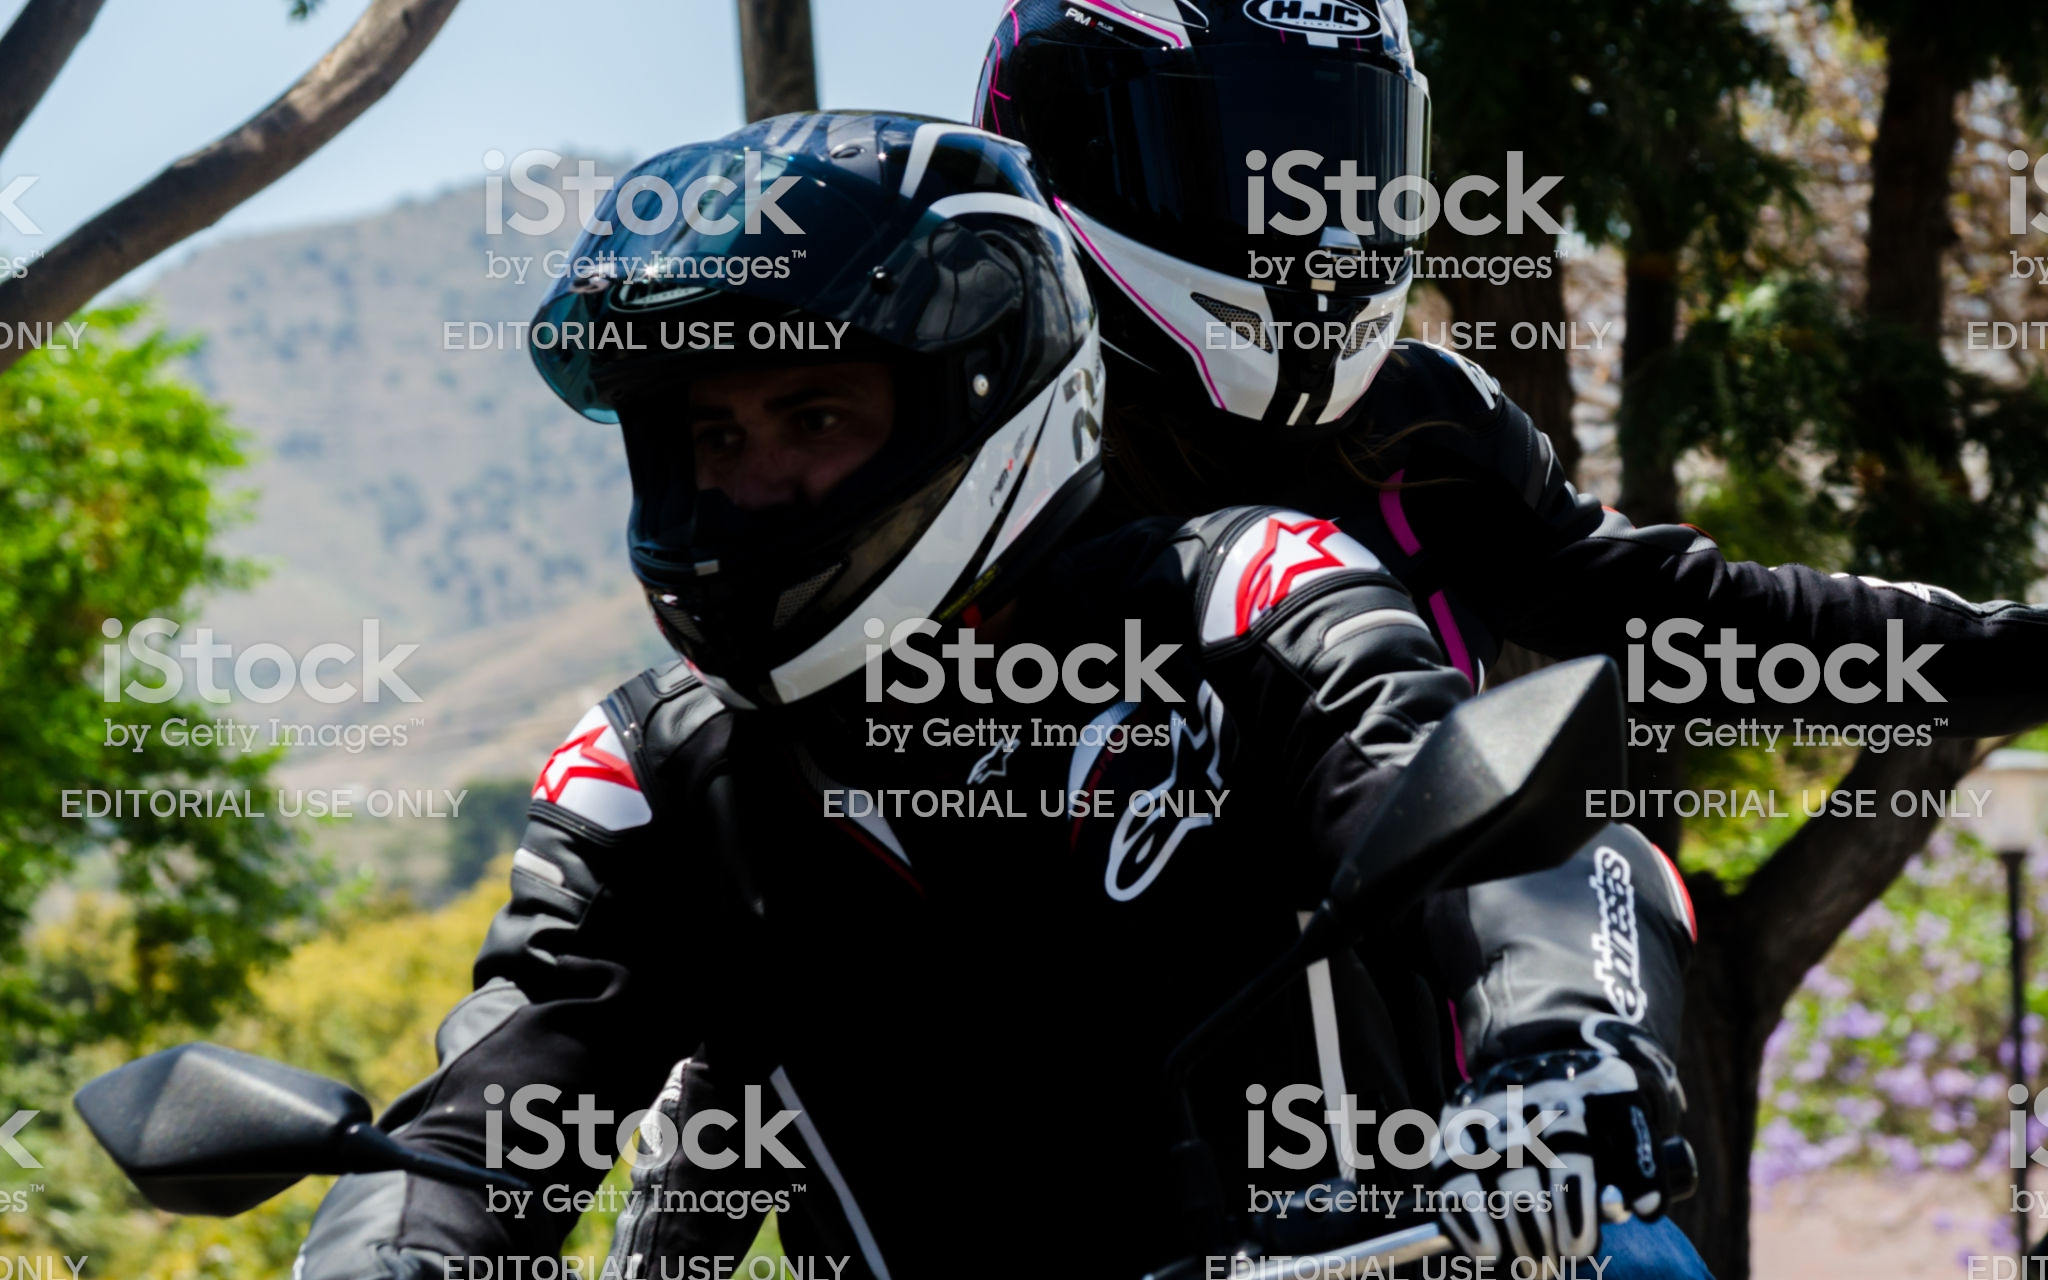helmet: (556, 130, 1115, 664), (986, 7, 1485, 490)
